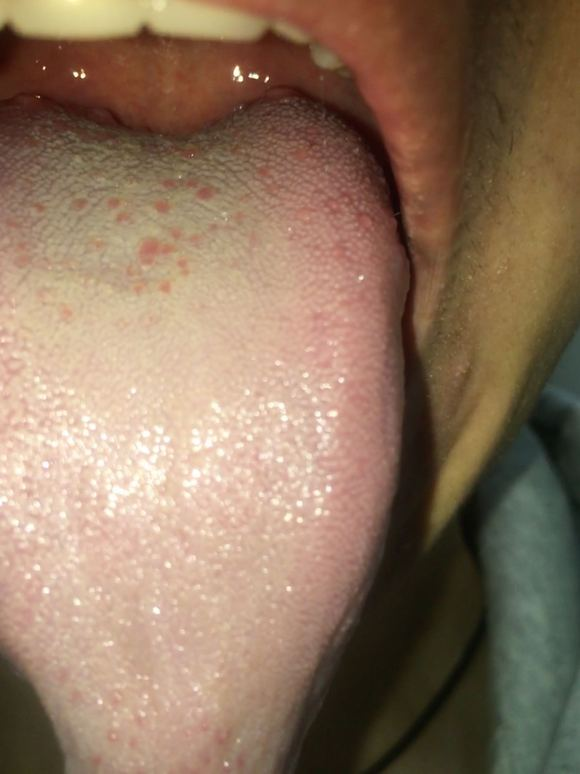baitaishe: (2, 83, 405, 774)
hongdianshe: (136, 234, 164, 271), (149, 191, 170, 217), (192, 181, 216, 203), (27, 196, 49, 218), (102, 191, 121, 213), (65, 194, 87, 212)
